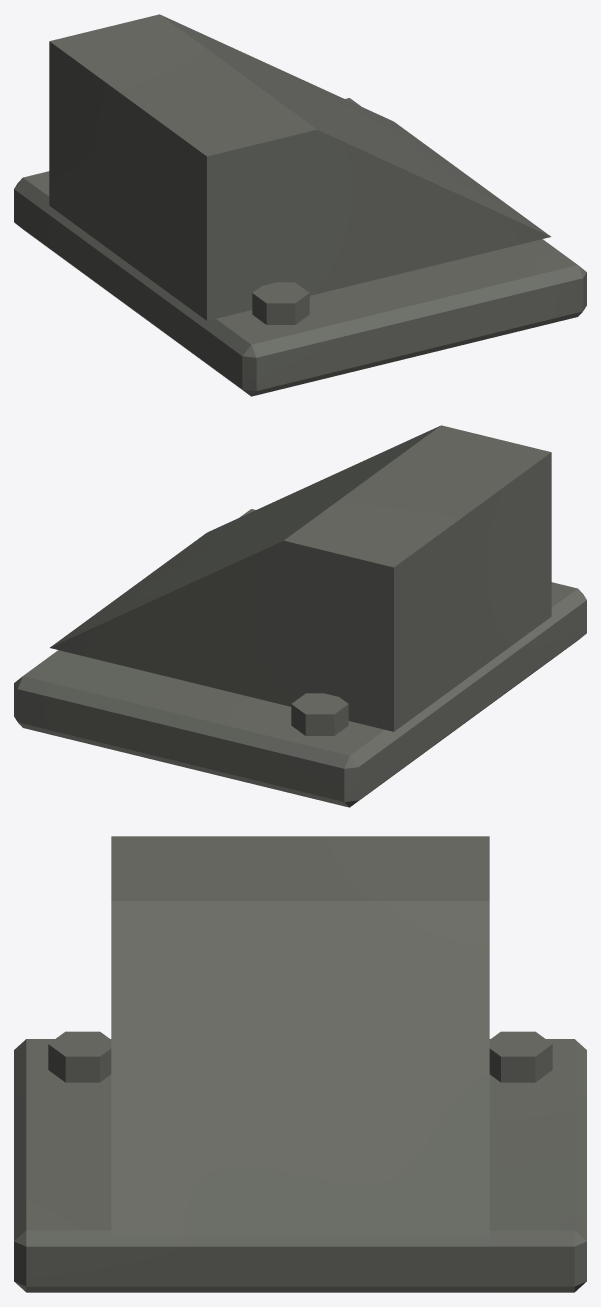
Rendered from WarrensC_CCS38_GateStopShoe_Mars_SM.fbx.
3 views of the same model, one above another, from view 1: azimuth 30°, elevation 25°; view 2: azimuth 150°, elevation 25°; view 3: azimuth 270°, elevation 25° (orthographic). The views are drawn at different scales.
Visible parts, largest first — view 1: WarrensC_CCS38_GateStopShoe_Mars_SM.001; view 2: WarrensC_CCS38_GateStopShoe_Mars_SM.001; view 3: WarrensC_CCS38_GateStopShoe_Mars_SM.001.
Part boxes in pixels (x1,y1,x2,y2): WarrensC_CCS38_GateStopShoe_Mars_SM.001: (14, 14, 586, 396); WarrensC_CCS38_GateStopShoe_Mars_SM.001: (14, 425, 586, 807); WarrensC_CCS38_GateStopShoe_Mars_SM.001: (14, 836, 586, 1292).
Bounding box in the file's own units: 25 × 30 × 15.
